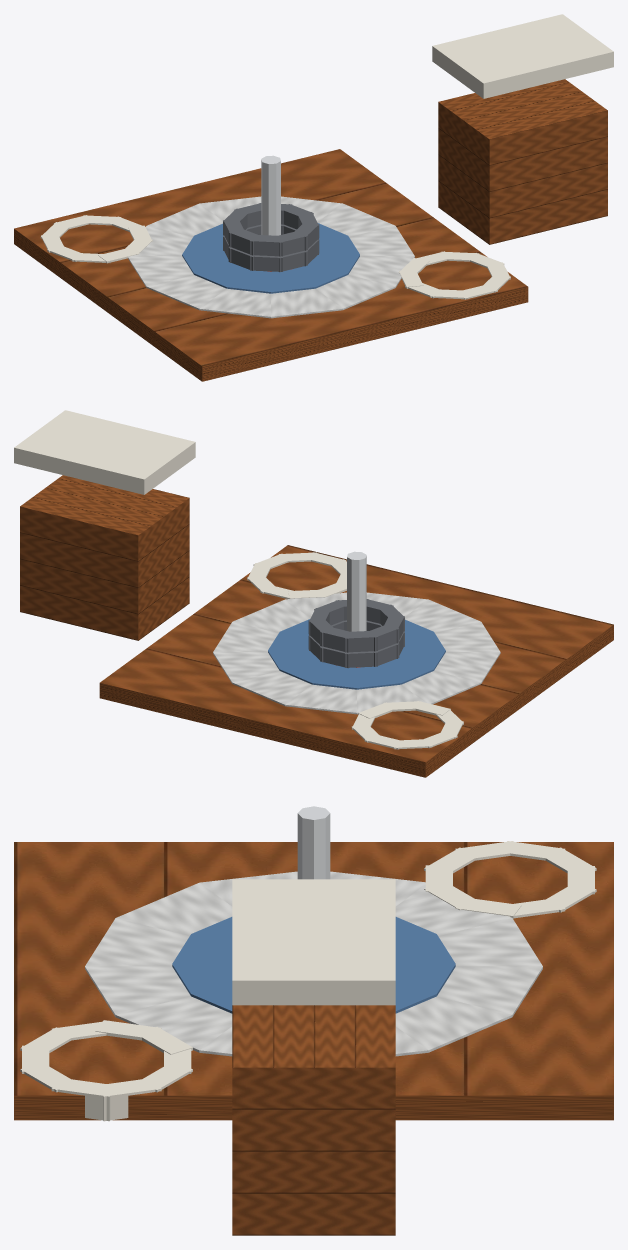
The model's file is cruise-ship-deck-and-lounge-cruise-ship-deck-and-loung-61a96119__38440.glb.
3 renders of one model, top to bottom at view 1: azimuth 30°, elevation 25°; view 2: azimuth 150°, elevation 25°; view 3: azimuth 270°, elevation 25°, orthographic. The views are drawn at different scales.
Parts seen in each view (by area): view 1: cruise-ship-deck-and-lounge-deck-quoit-set; view 2: cruise-ship-deck-and-lounge-deck-quoit-set; view 3: cruise-ship-deck-and-lounge-deck-quoit-set.
Boxes of the visible parts, <box> form: cruise-ship-deck-and-lounge-deck-quoit-set: <box>14,14,613,381</box>; cruise-ship-deck-and-lounge-deck-quoit-set: <box>14,410,613,777</box>; cruise-ship-deck-and-lounge-deck-quoit-set: <box>14,806,613,1235</box>.
Bounding box in the file's own units: 1.62 × 0.525 × 1.1.
Materials: 7 (2 with a texture image).
